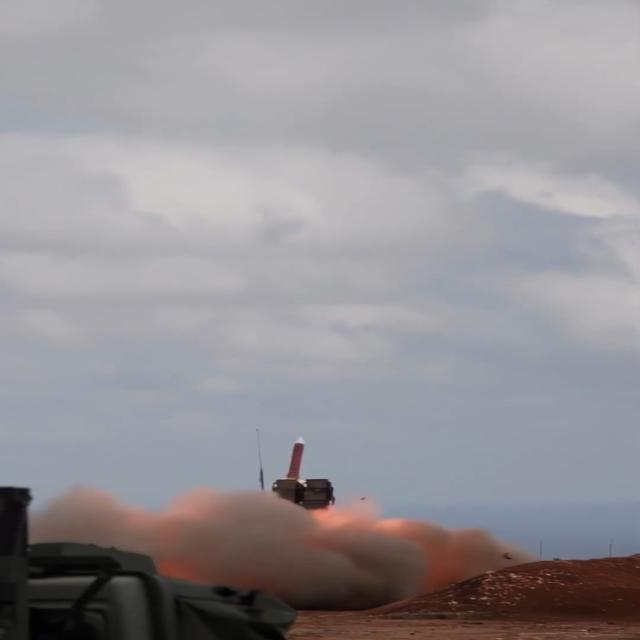missile: (280, 434, 310, 479)
